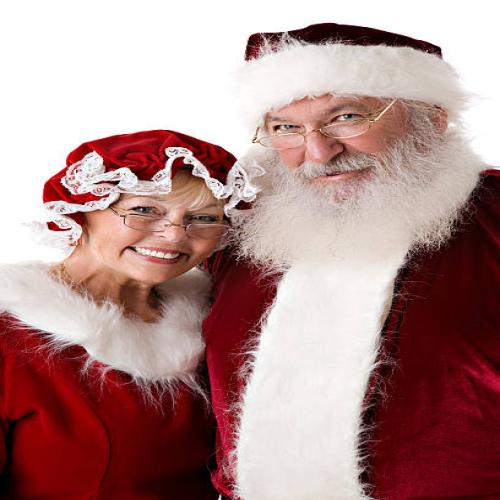Santa: (203, 20, 500, 499)
